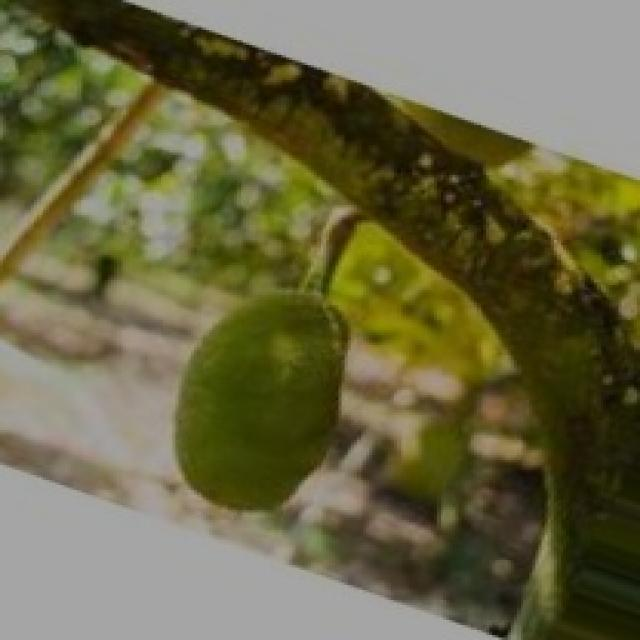Fruit: (136, 272, 376, 542)
